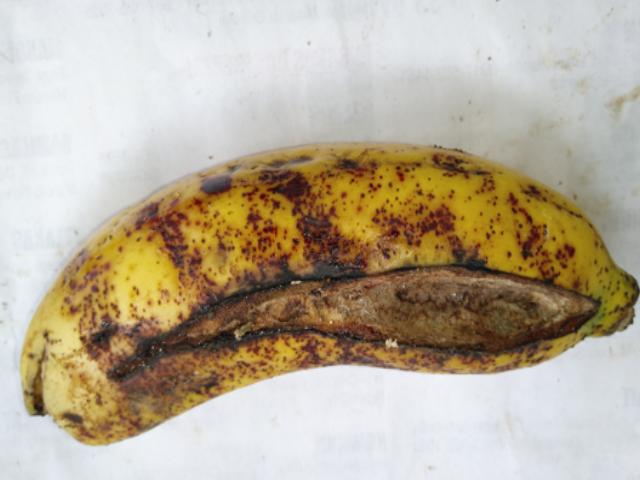rotten: (94, 196, 596, 405)
